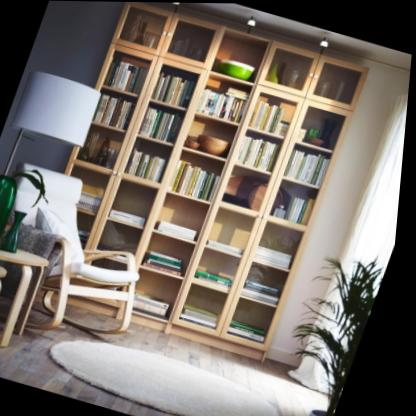Chair: (0, 160, 181, 350)
